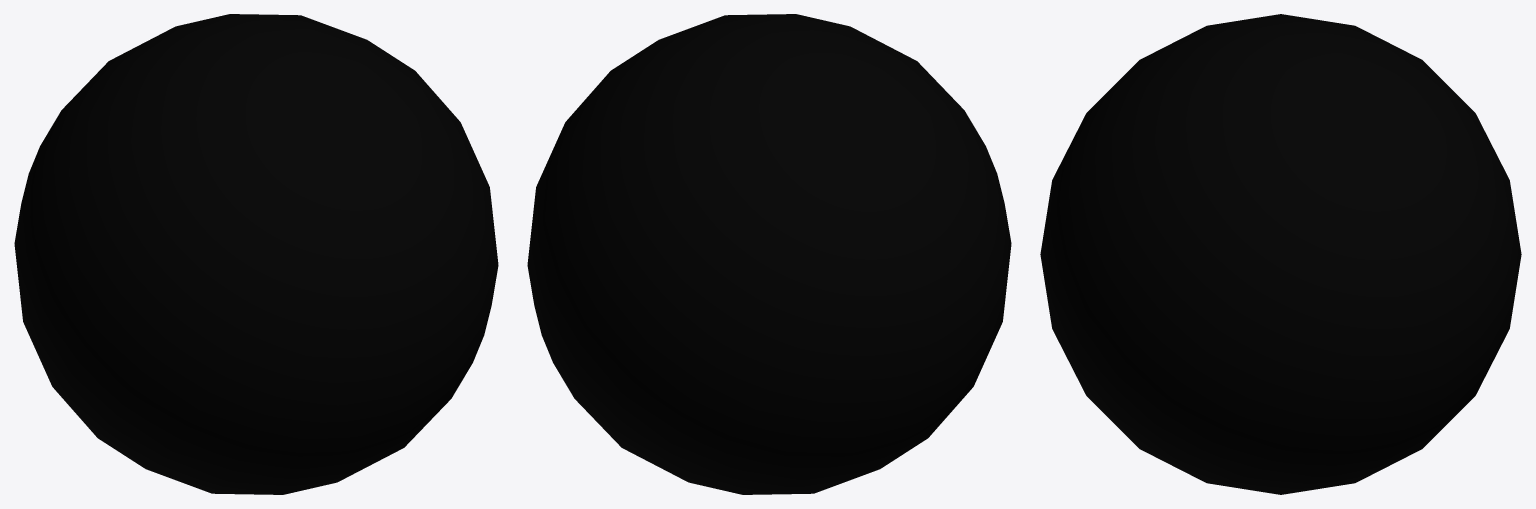
Rendered from hitbox.obj.
3 renders of one model, left to right at view 1: azimuth 30°, elevation 25°; view 2: azimuth 150°, elevation 25°; view 3: azimuth 270°, elevation 25°, orthographic.
Visible parts, largest first — view 1: Icosphere; view 2: Icosphere; view 3: Icosphere.
Boxes of the visible parts, bbox=[...] form: Icosphere: bbox=[14, 14, 498, 494]; Icosphere: bbox=[527, 14, 1011, 494]; Icosphere: bbox=[1040, 14, 1521, 494].
Bounding box in the file's own units: 2 × 2 × 2.
Materials: 1 (1 with a texture image).
